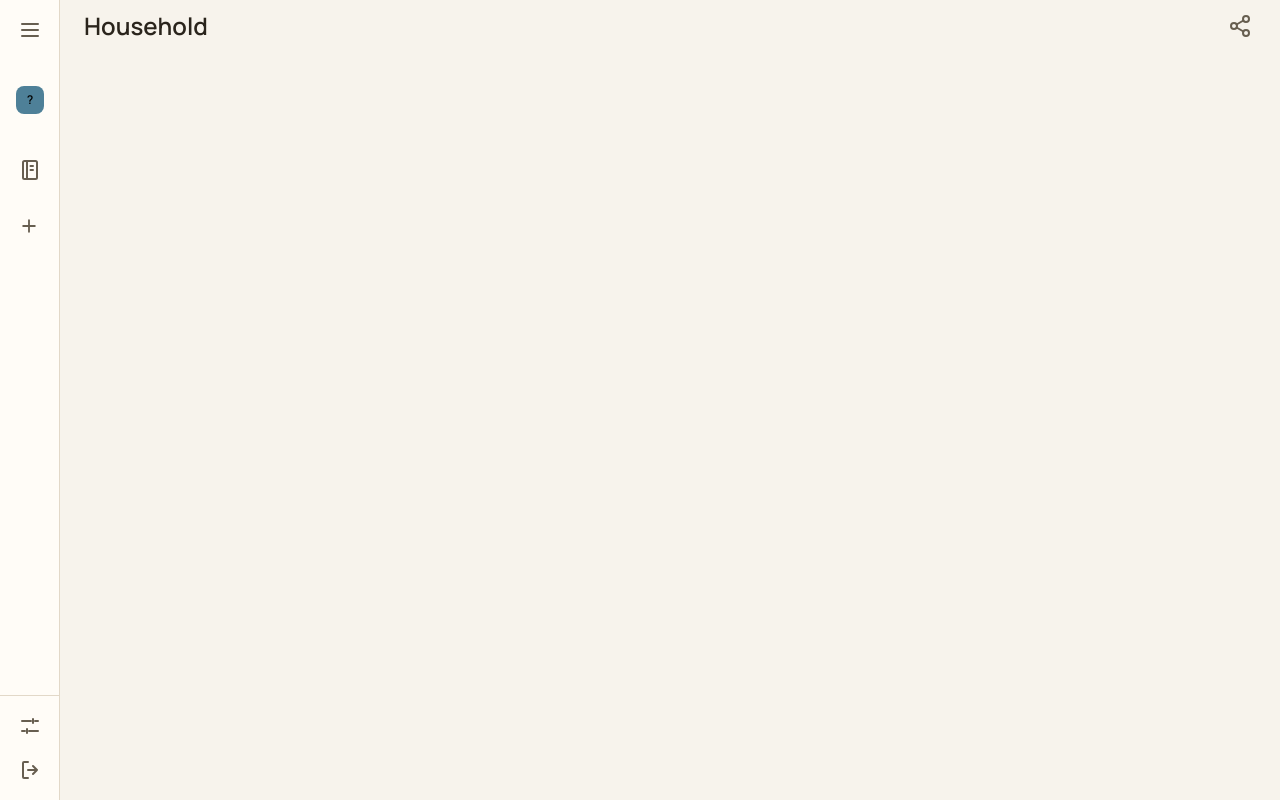
KitchenDetailChrome › puts the share button at the end of the chrome and opens a dialog with the invite form and members
Click the button named "Invite someone".
click(1240, 26)  # box [1224,10,1256,42]
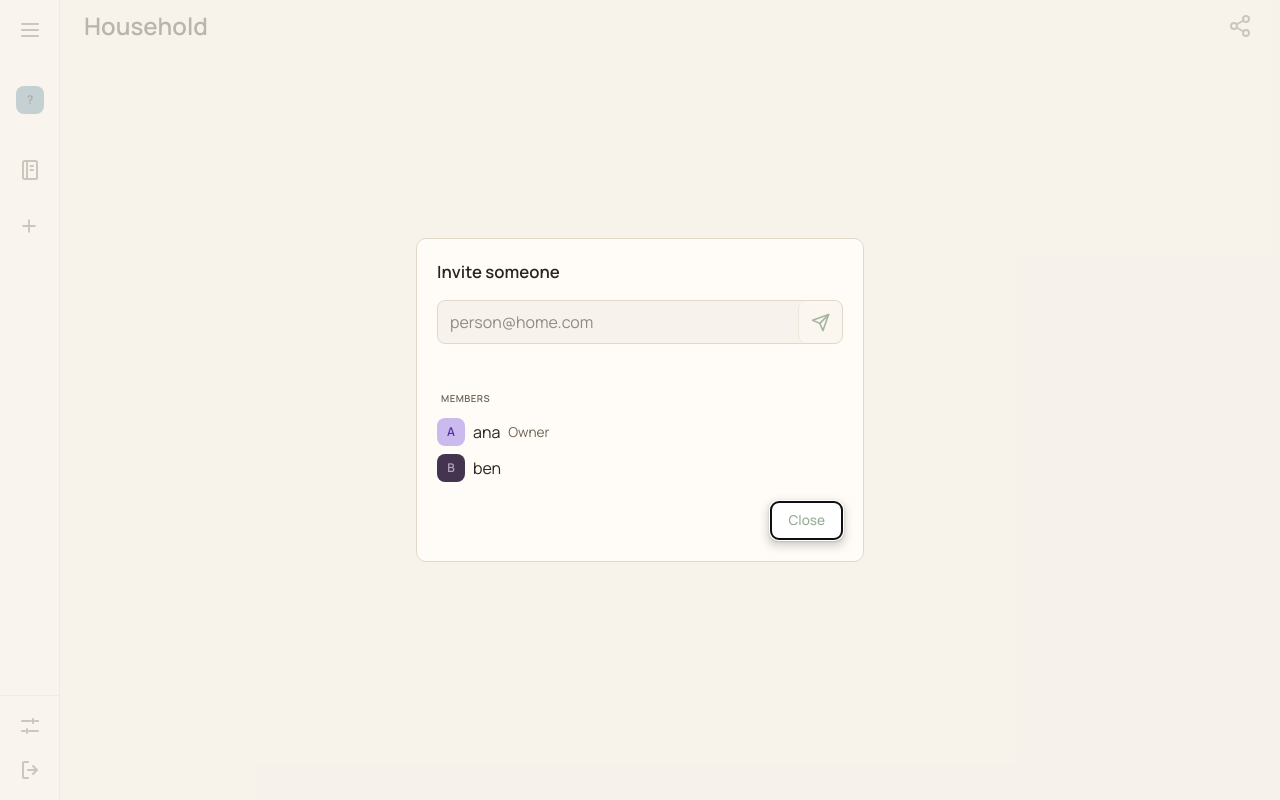
Expected: the heading "Invite someone" is shown, [437,260,560,283]
Expected: the field with placeholder "person@home.com" is shown, [438,302,798,343]
Expected: the dialog shows "ana", [473,421,500,443]
